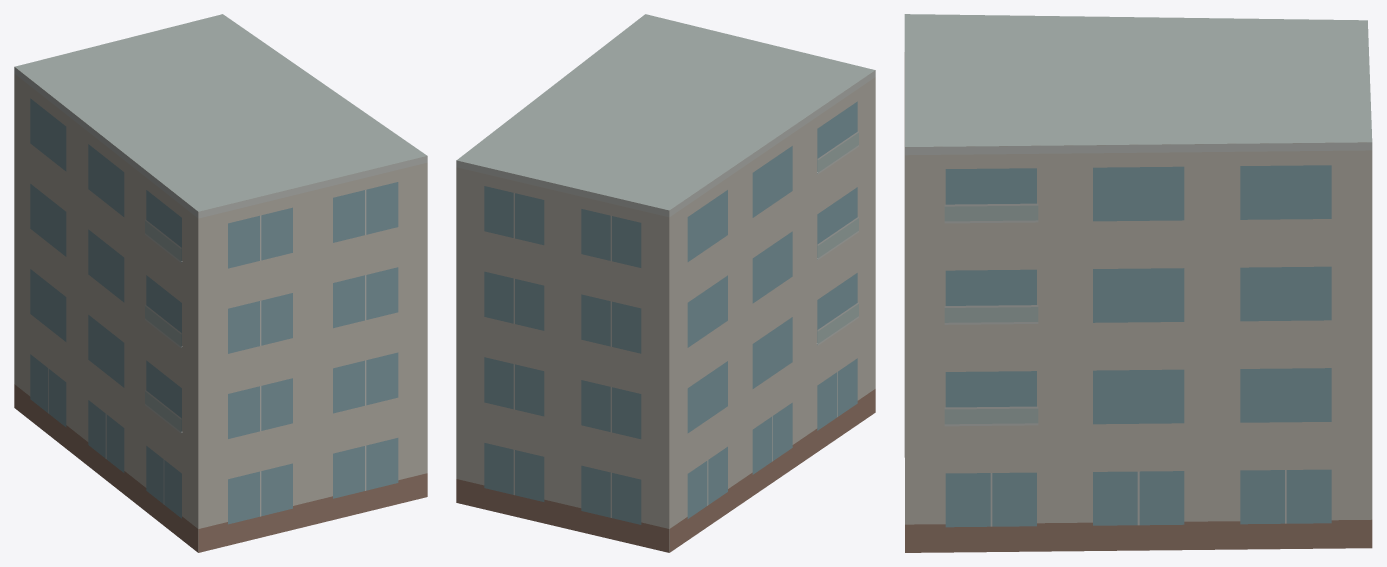
Rendered from survey-upis-32815972.glb.
The picture shows the model from 3 angles, left to right: view 1: azimuth 30°, elevation 25°; view 2: azimuth 150°, elevation 25°; view 3: azimuth 270°, elevation 25°; orthographic projection. The views are drawn at different scales.
Parts seen in each view (by area): view 1: survey-upis-32815972.tmp; view 2: survey-upis-32815972.tmp; view 3: survey-upis-32815972.tmp.
Boxes of the visible parts, box(x1,y1,x2,y2) form: survey-upis-32815972.tmp: box(14, 14, 427, 552); survey-upis-32815972.tmp: box(456, 14, 875, 552); survey-upis-32815972.tmp: box(904, 14, 1372, 552).
Size of the model in its own units: 8.6 by 12.2 by 12.75.
